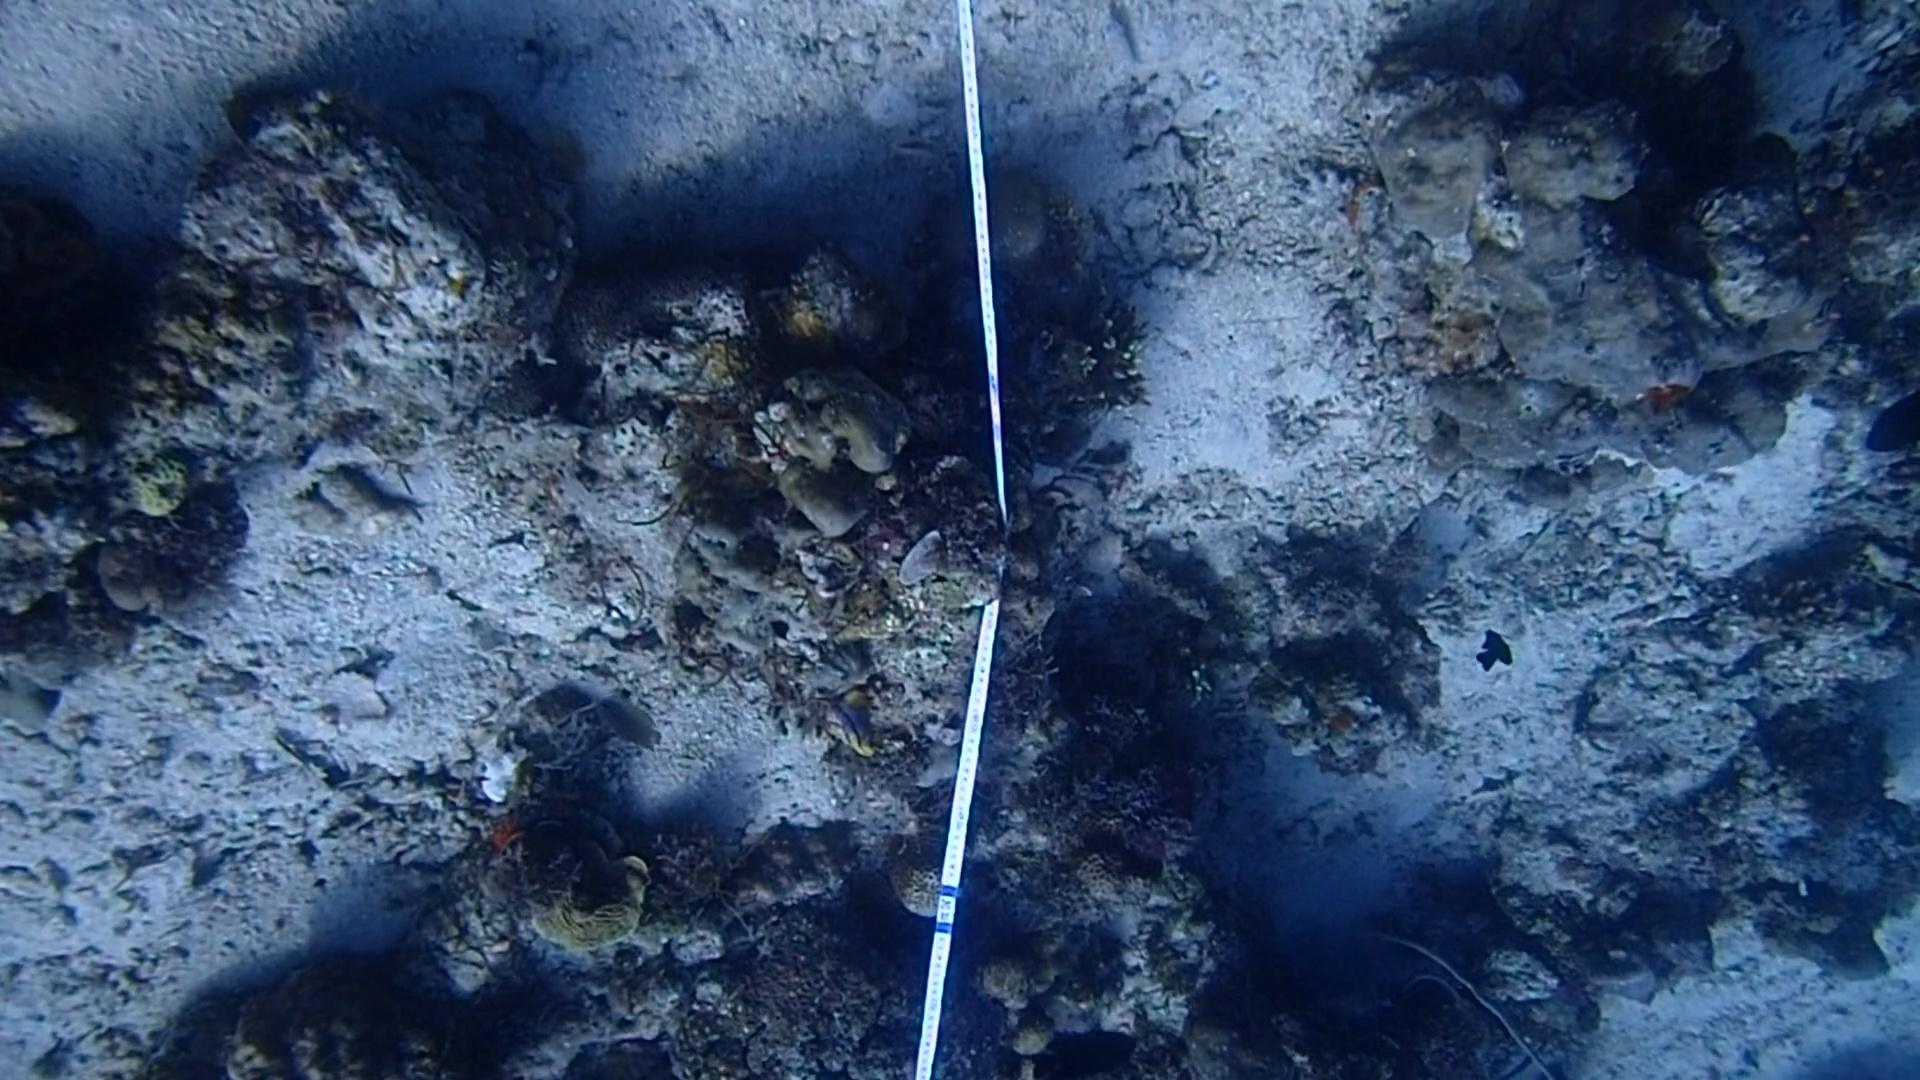Dark Fish: (1038, 1023, 1141, 1080), (1861, 390, 1920, 462), (1469, 617, 1520, 678)
Light Fish: (596, 691, 662, 756)
